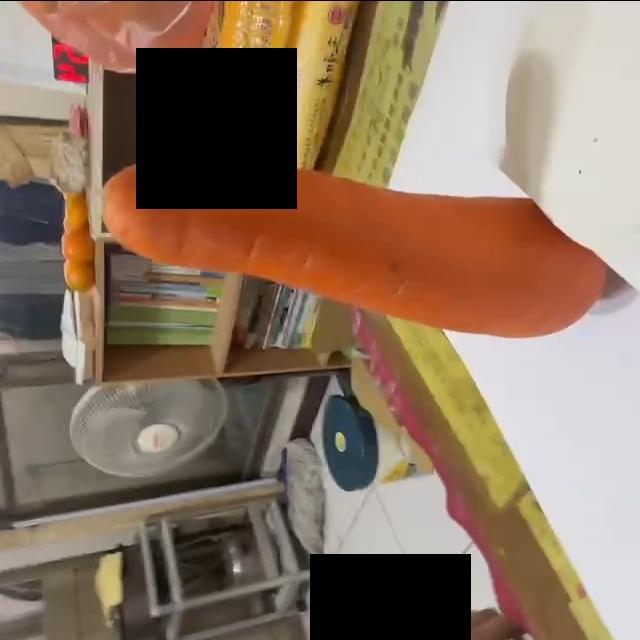carrot: (100, 158, 616, 340)
